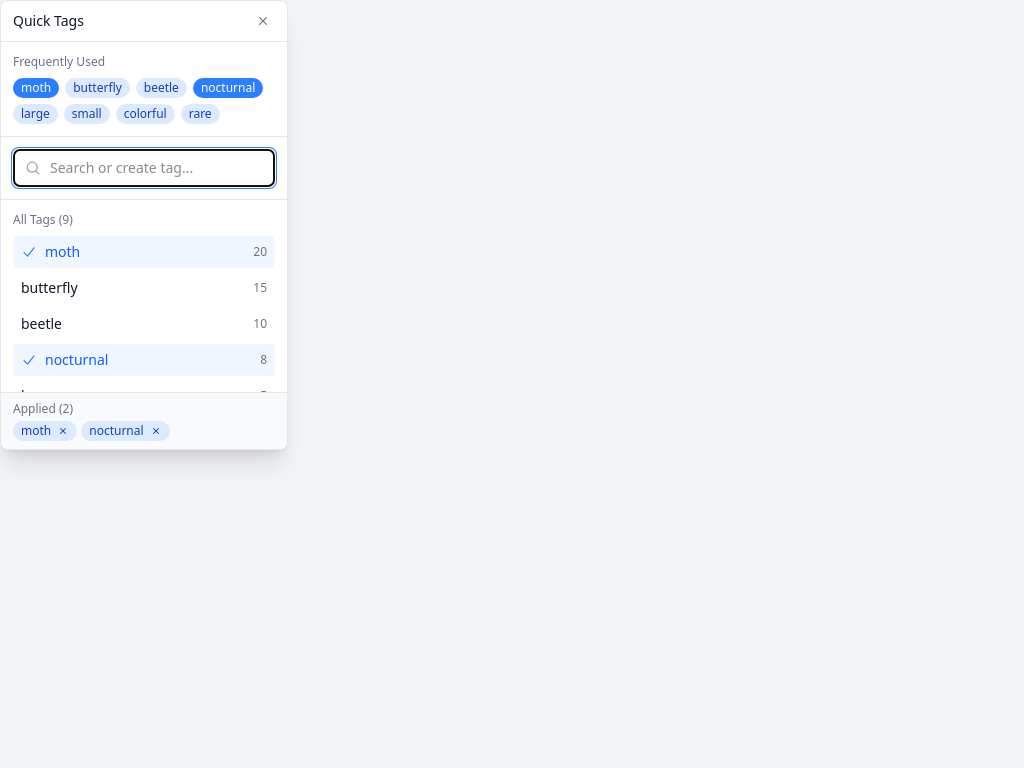
it: QuickTagDropdown › shows create option for new tags
This screenshot has width=1024, height=768.
Type "newtagname" into the field with placeholder "Search or create tag..." at (144, 168), box [13, 149, 275, 187]
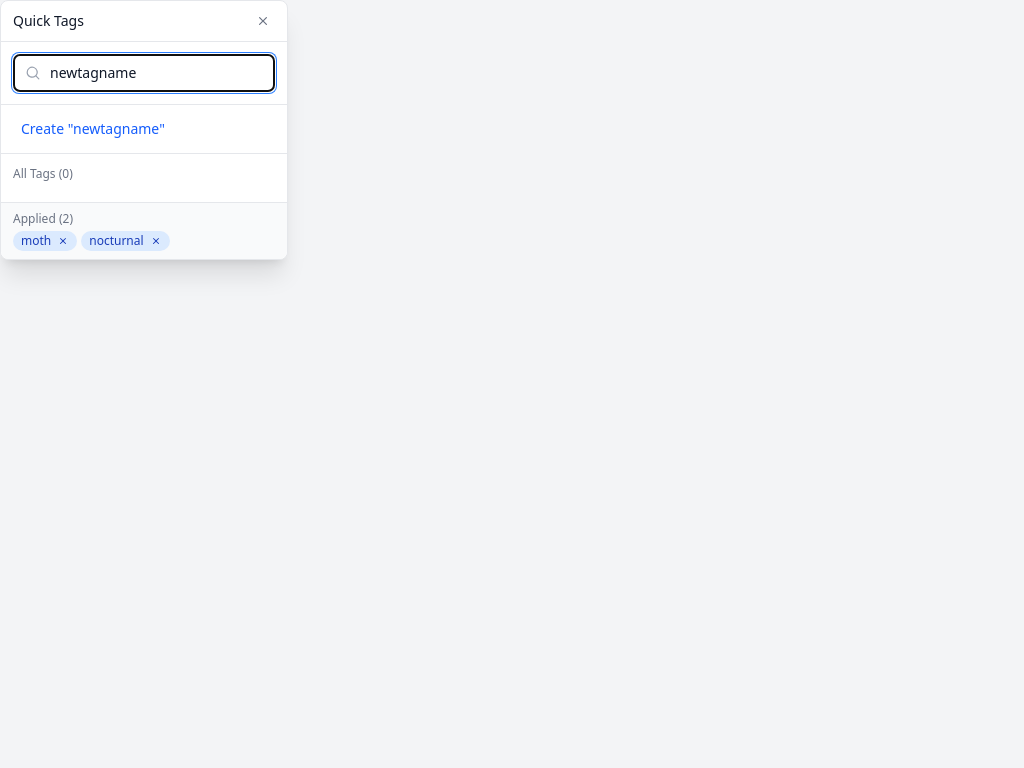
Result: the text "Create \"newtagname\"" is shown at [21, 119, 165, 139]
